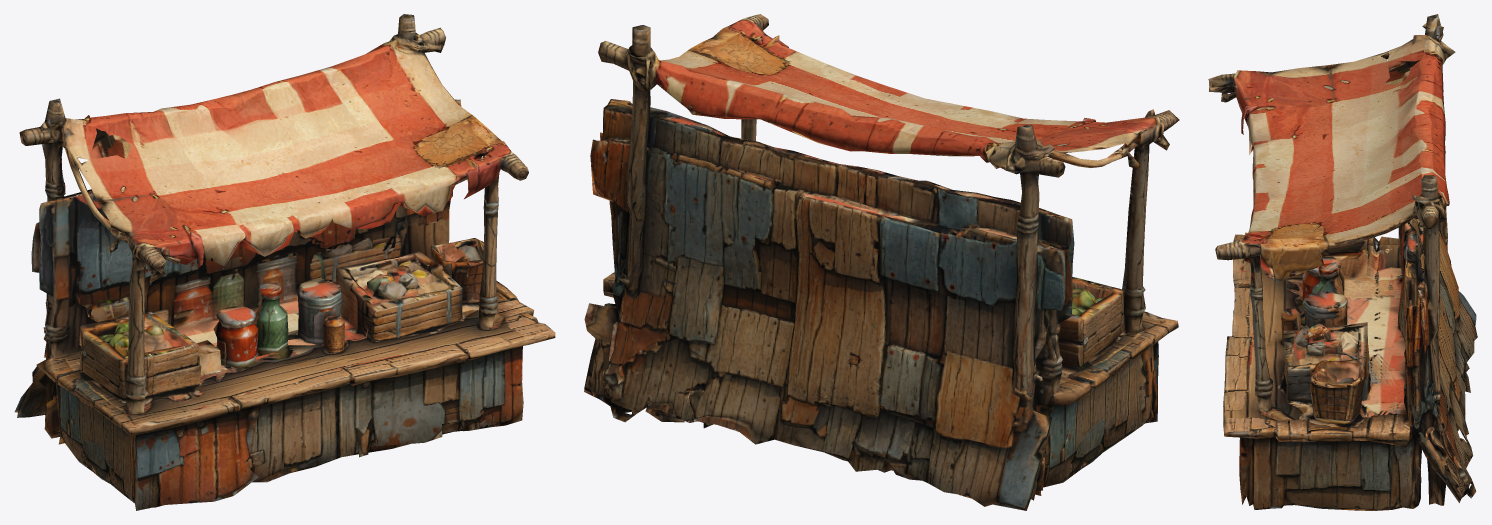
File: Settle_Stall.fbx
3 renders of one model, left to right at view 1: azimuth 30°, elevation 25°; view 2: azimuth 150°, elevation 25°; view 3: azimuth 270°, elevation 25°, orthographic. The views are drawn at different scales.
Visible parts, largest first — view 1: texture_mapping; view 2: texture_mapping; view 3: texture_mapping.
Part boxes in pixels (left/top/right/bottom): texture_mapping: left=14, top=14, right=555, bottom=510; texture_mapping: left=584, top=14, right=1179, bottom=510; texture_mapping: left=1208, top=14, right=1477, bottom=510.
Size of the model in its own units: 0.9981 by 0.5692 by 0.7567.
1 material, 1 textured.
